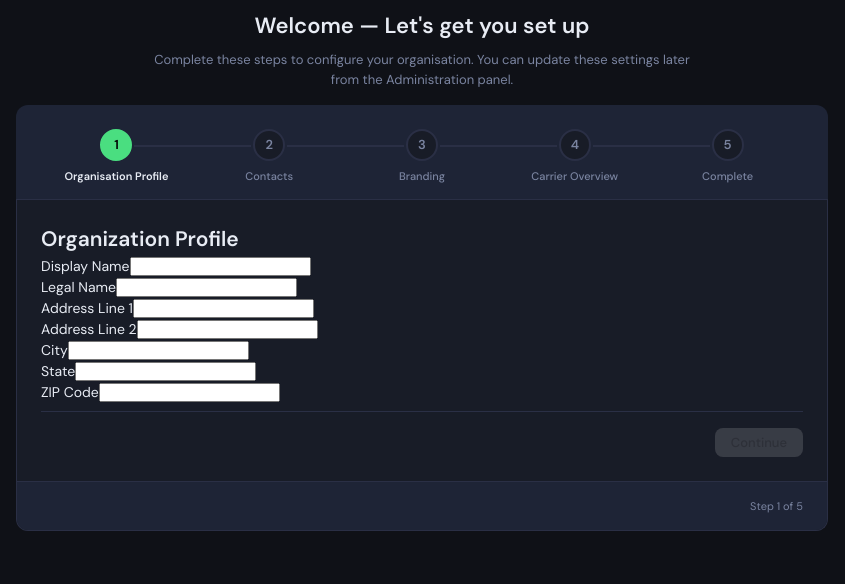
Test: OnboardingWizard › step 4: shows carrier list with config status badges
Navigate to step 4 quickly
In the field labelled "Display Name": coordinates (220, 266) left=130, top=257, right=310, bottom=276, type "Corp"
In the field labelled "Legal Name": coordinates (206, 287) left=116, top=278, right=297, bottom=297, type "Corp LLC"
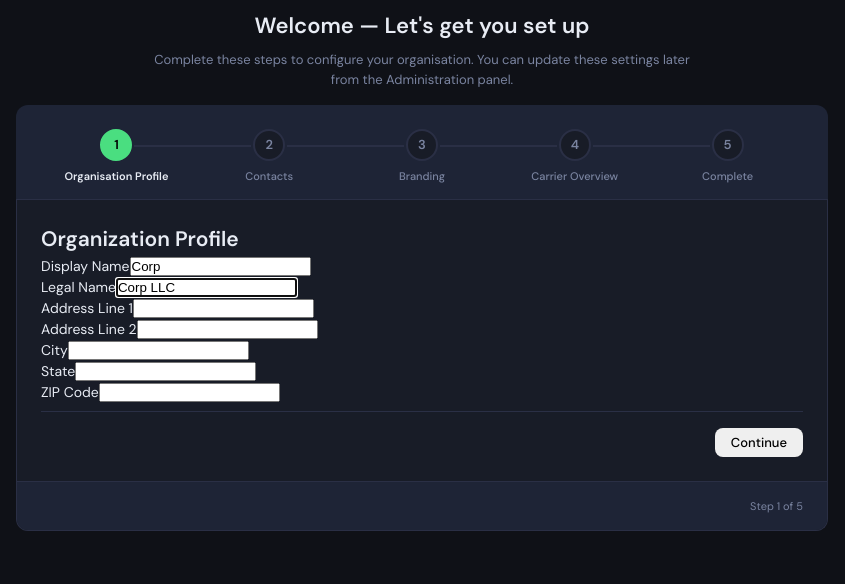
Click the button "Continue": coordinates (759, 442) left=715, top=428, right=803, bottom=457
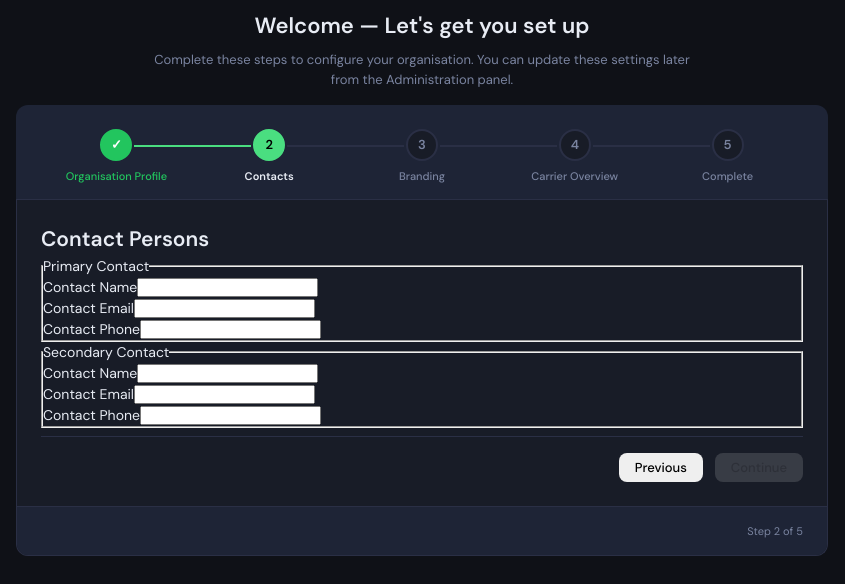
Expected: the text "Primary Contact" is shown, left=43, top=256, right=149, bottom=277
In the field labelled "Contact Name" below "Primary Contact": coordinates (228, 287) left=137, top=278, right=318, bottom=297, type "Dan"
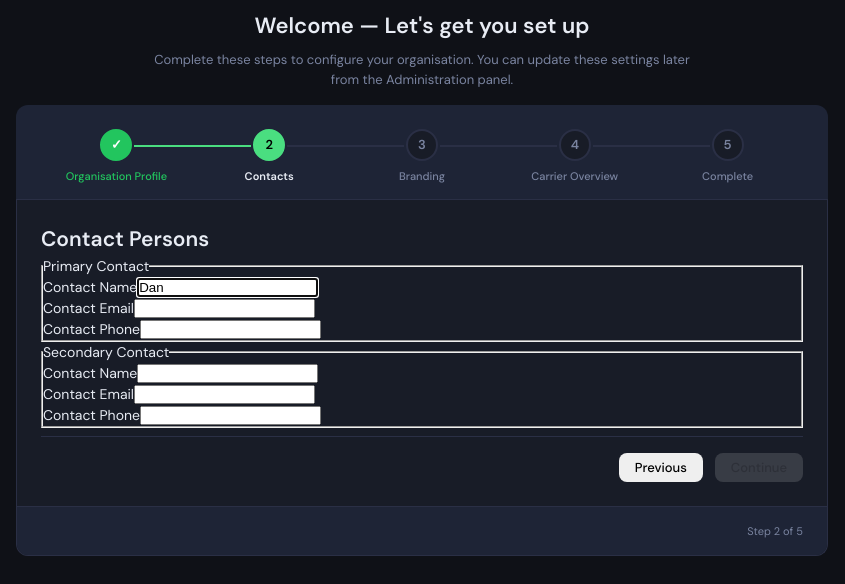
In the field labelled "Contact Email" below "Primary Contact": coordinates (224, 308) left=134, top=299, right=315, bottom=318, type "dan@corp.com"
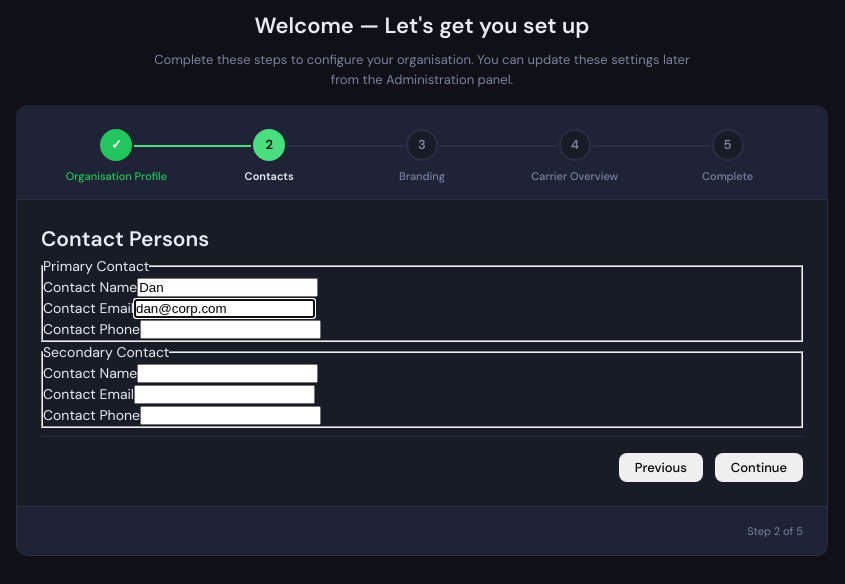
Click the button "Continue": coordinates (759, 467) left=715, top=453, right=803, bottom=482
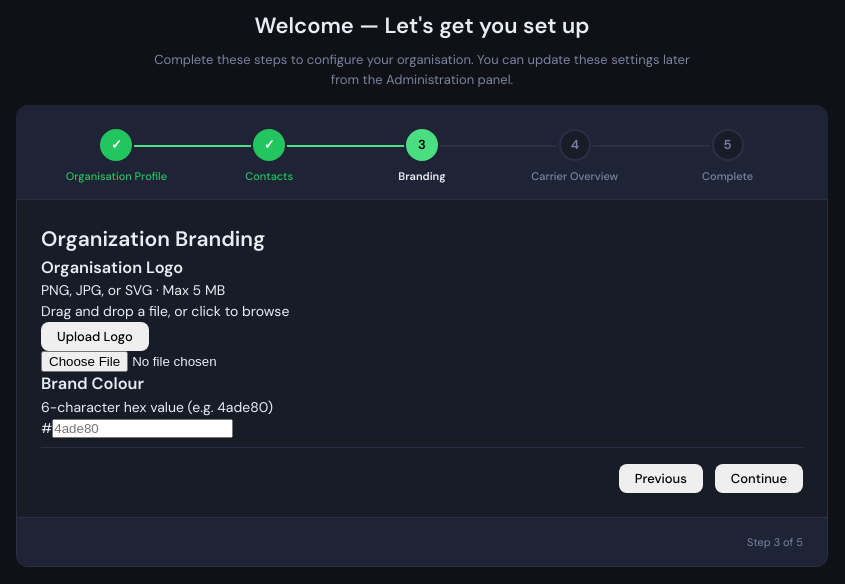
Expected: the button labelled "Drag and drop a file, or click to browse Upload Logo" is shown, left=41, top=302, right=289, bottom=351
Click the button "Continue": coordinates (759, 478) left=715, top=464, right=803, bottom=493
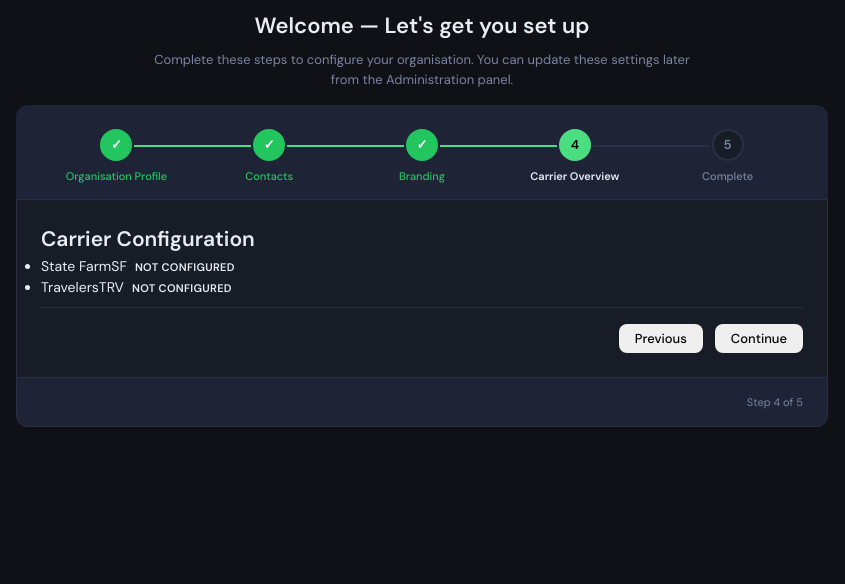
Expected: the text "State Farm" is shown, left=41, top=257, right=111, bottom=275
